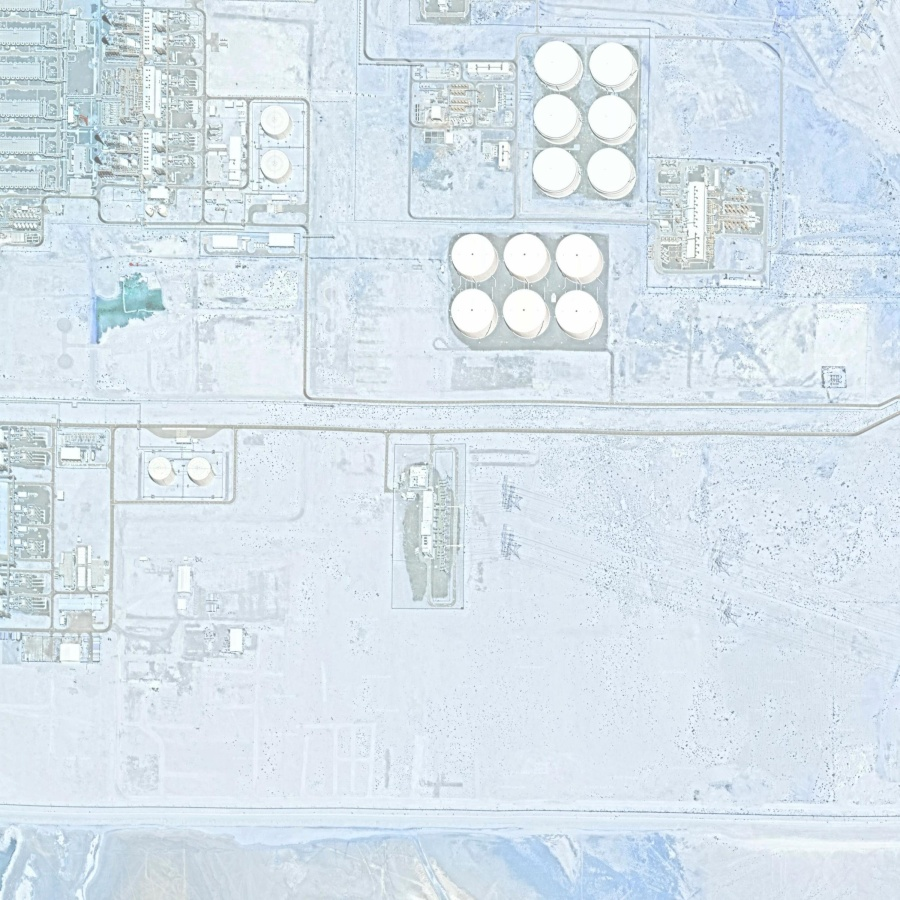PowerPlant: (388, 8, 768, 366)
